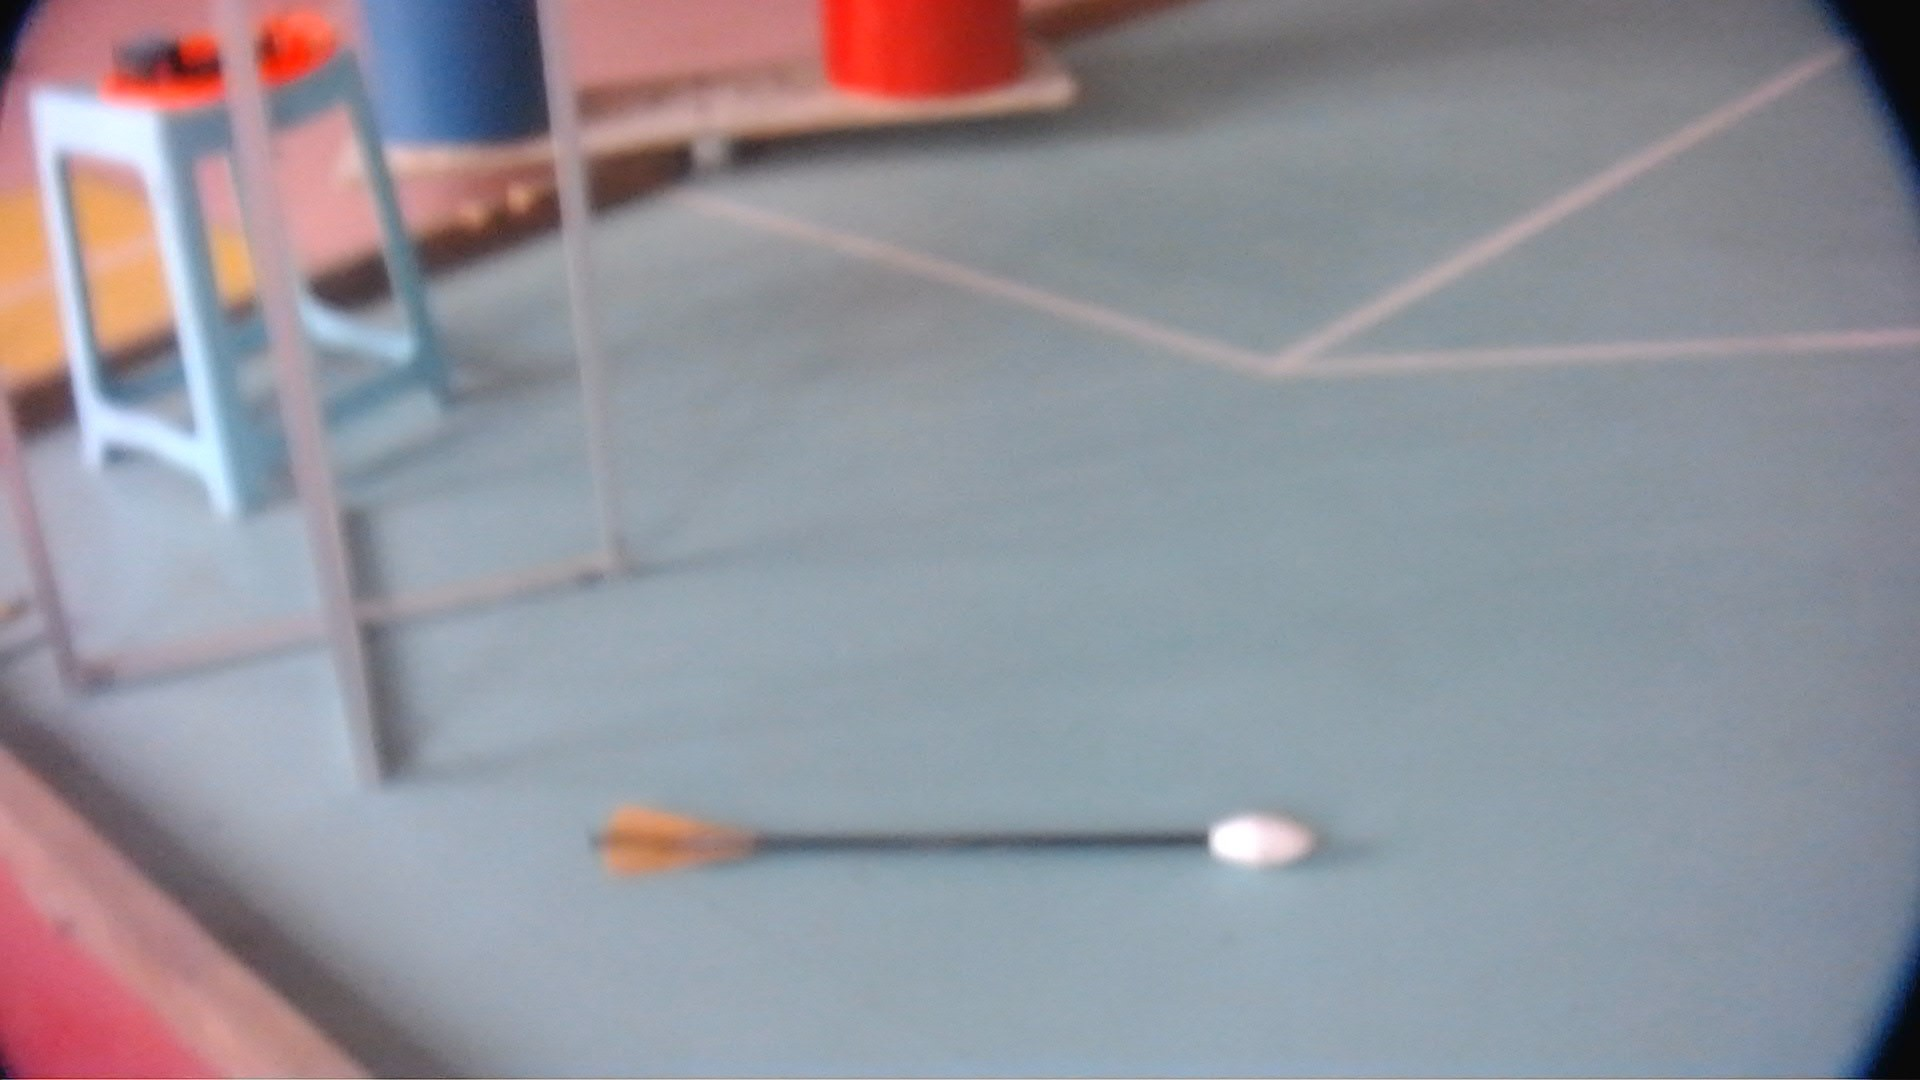arrow: (588, 800, 1315, 881)
arrowFront: (1203, 812, 1315, 872)
